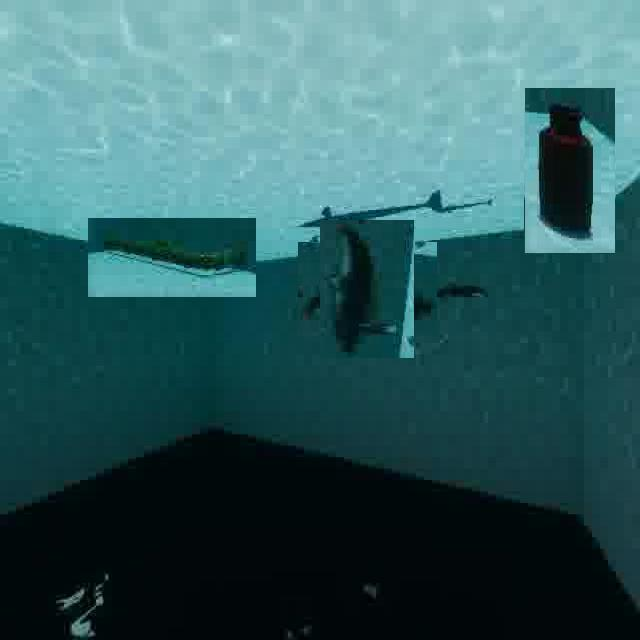Cylinder: (524, 88, 615, 254)
Pipe: (87, 218, 256, 298)
Whale: (310, 231, 426, 347), (428, 270, 494, 315)
